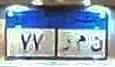7: (32, 33, 45, 51), (20, 33, 32, 50)
meem: (75, 34, 87, 51)
noon: (88, 36, 104, 52)
raa: (61, 39, 72, 53)
